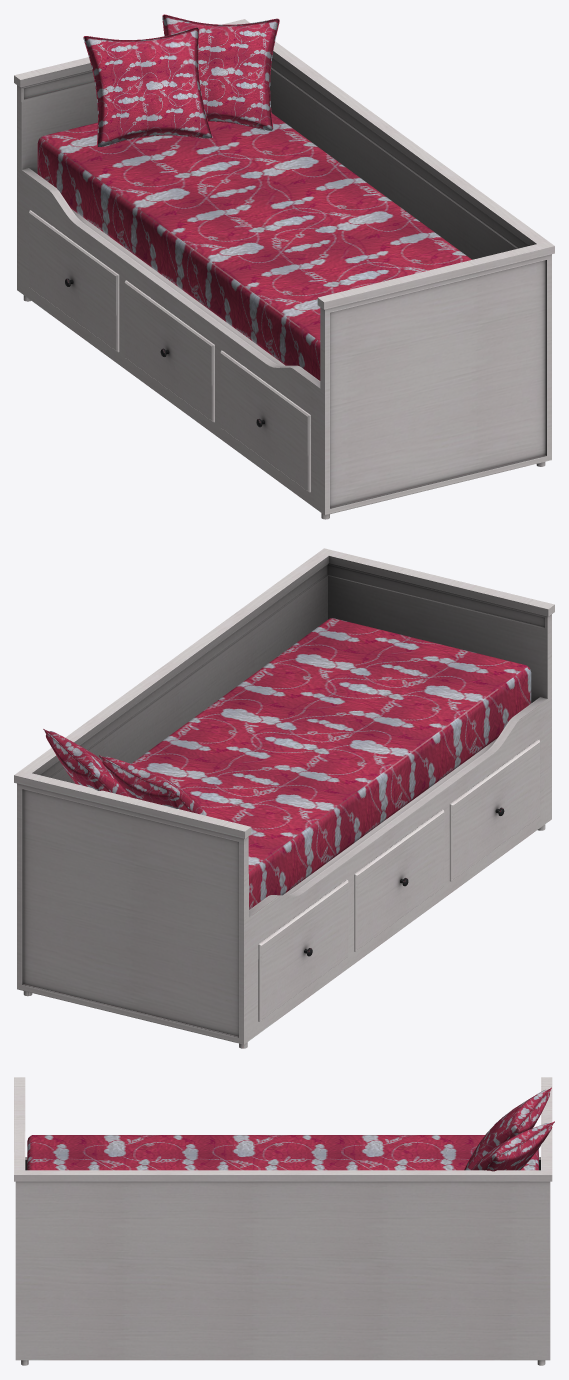
File: obj_divan_01_034183.glb
3 views of the same model, one above another, from view 1: azimuth 30°, elevation 25°; view 2: azimuth 150°, elevation 25°; view 3: azimuth 270°, elevation 25° (orthographic). The views are drawn at different scales.
Parts seen in each view (by area): view 1: obj_divan_01_034183; view 2: obj_divan_01_034183; view 3: obj_divan_01_034183.
Boxes of the visible parts, x1,y1,x2,y2 form: obj_divan_01_034183: [14, 14, 554, 519]; obj_divan_01_034183: [14, 548, 554, 1048]; obj_divan_01_034183: [14, 1077, 554, 1365].
Bounding box in the file's own units: 0.7117 × 0.6929 × 1.6.
2 materials, 2 textured.
